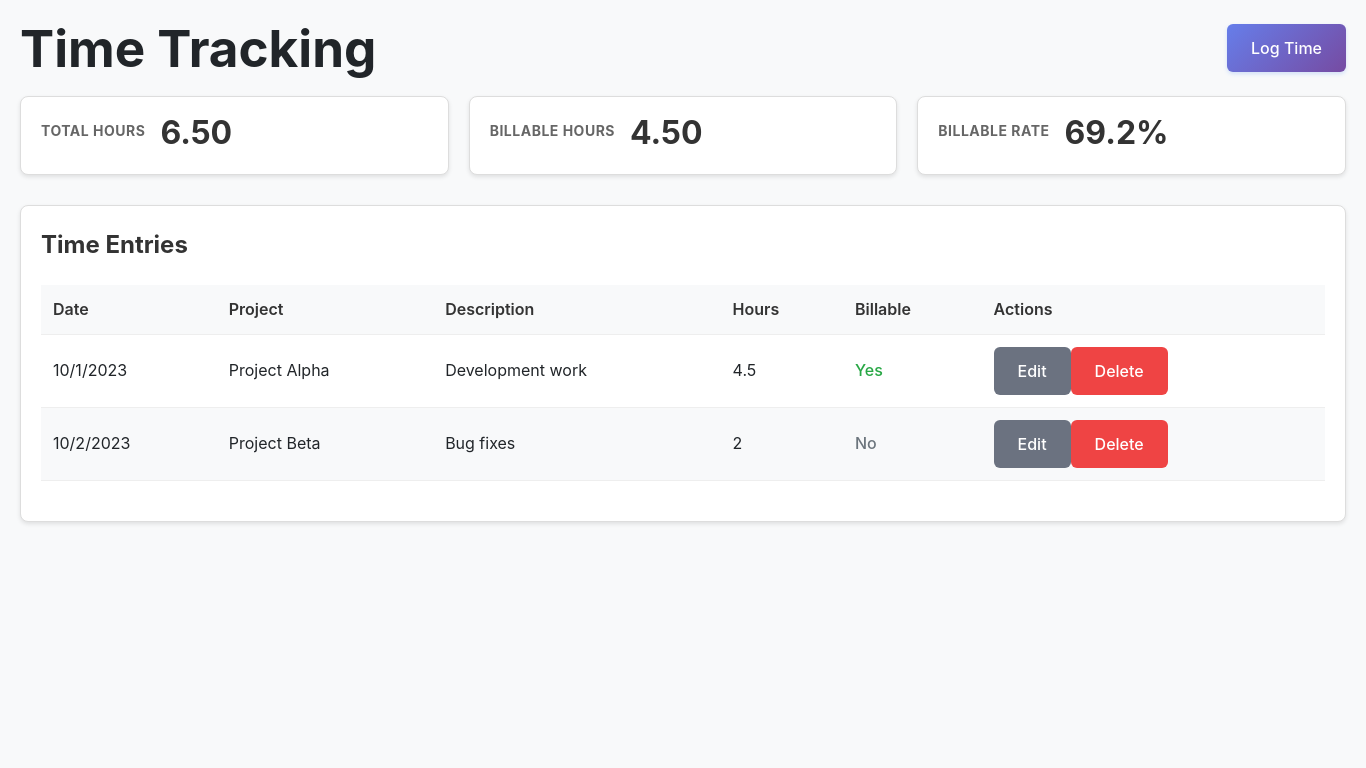
Test: TimeTracking › Time Entry Form › can cancel form
This screenshot has width=1366, height=768.
Click the button "Log Time".
click(1286, 48)  # box [1227,24,1346,72]
(page scrolled)
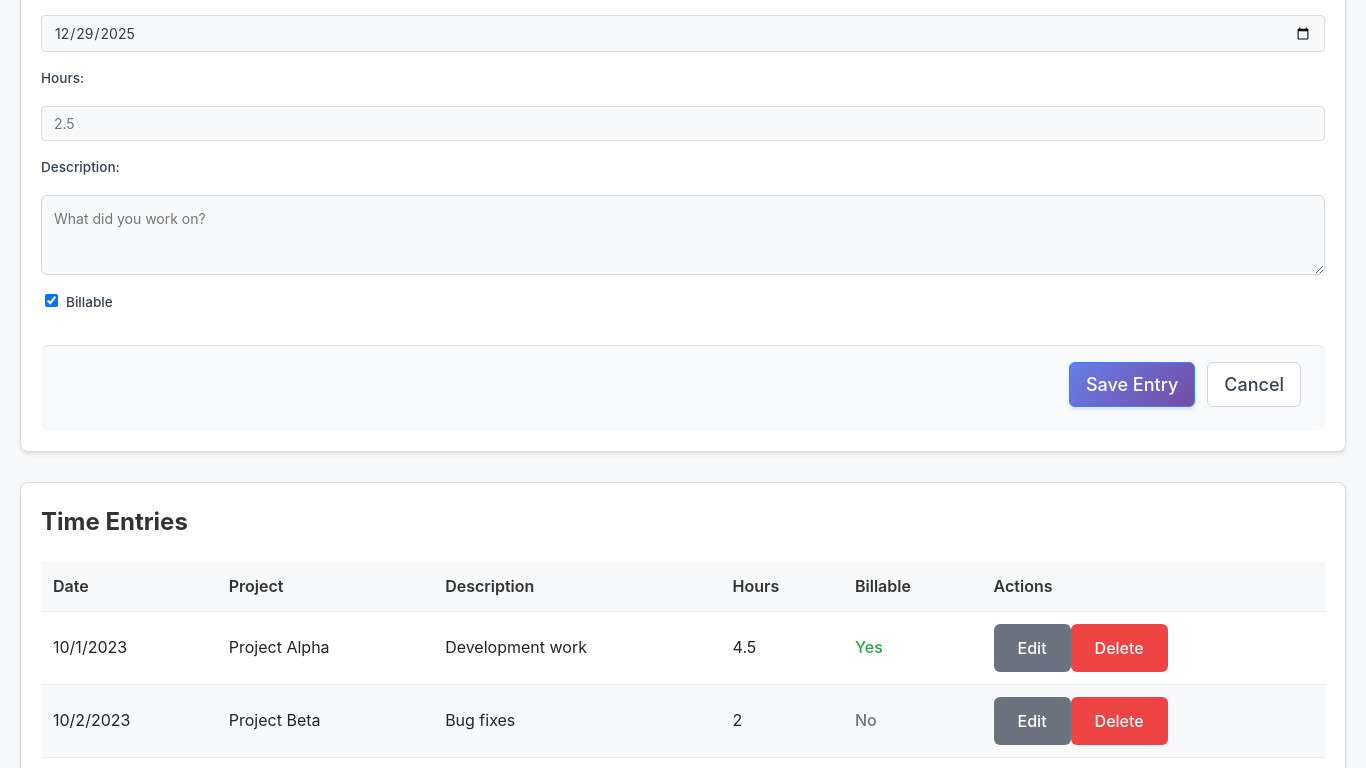
Now the number of buttons "cancel" is 2
// Click the form's cancel button (secondary styling)
Click the button "Cancel".
click(1254, 385)  # box [1207,362,1301,407]
(page scrolled)
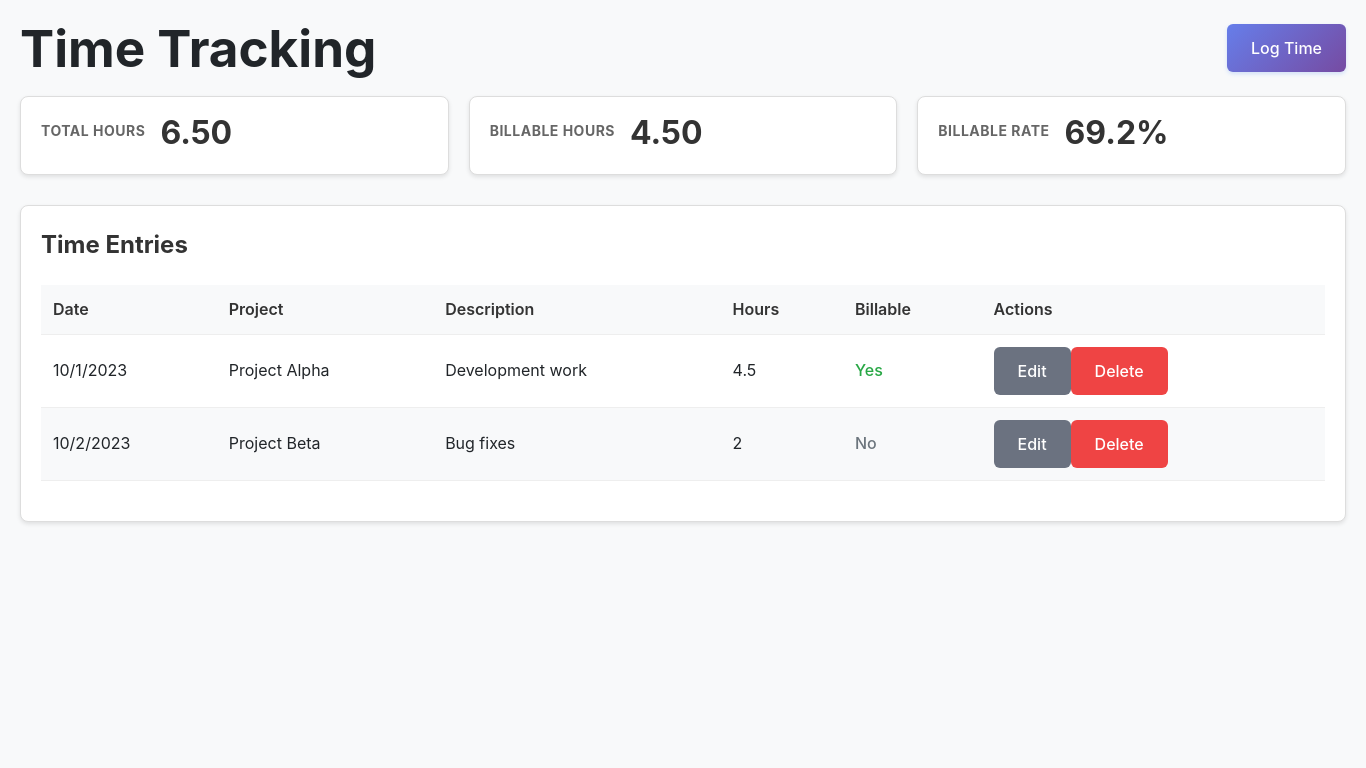
Now the button "Save Entry" is gone
